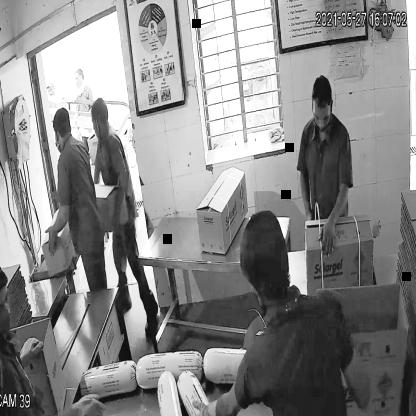no_goggles: (304, 103, 338, 129)
